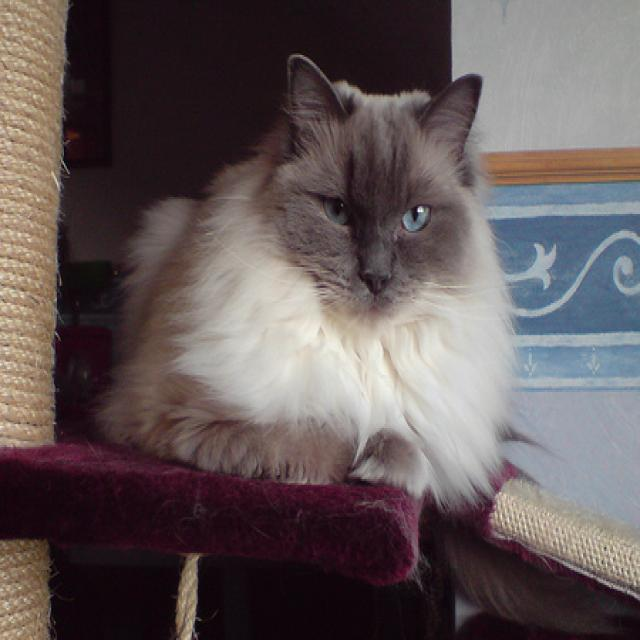Ragdoll: (95, 49, 521, 512)
